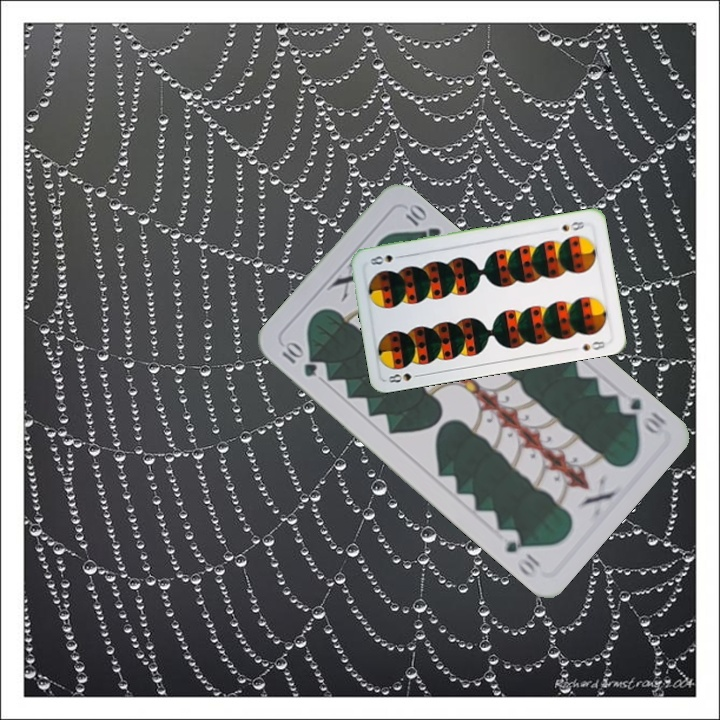G10: (613, 389, 669, 439), (277, 337, 320, 380)
S8: (384, 369, 425, 385), (557, 217, 588, 234)
